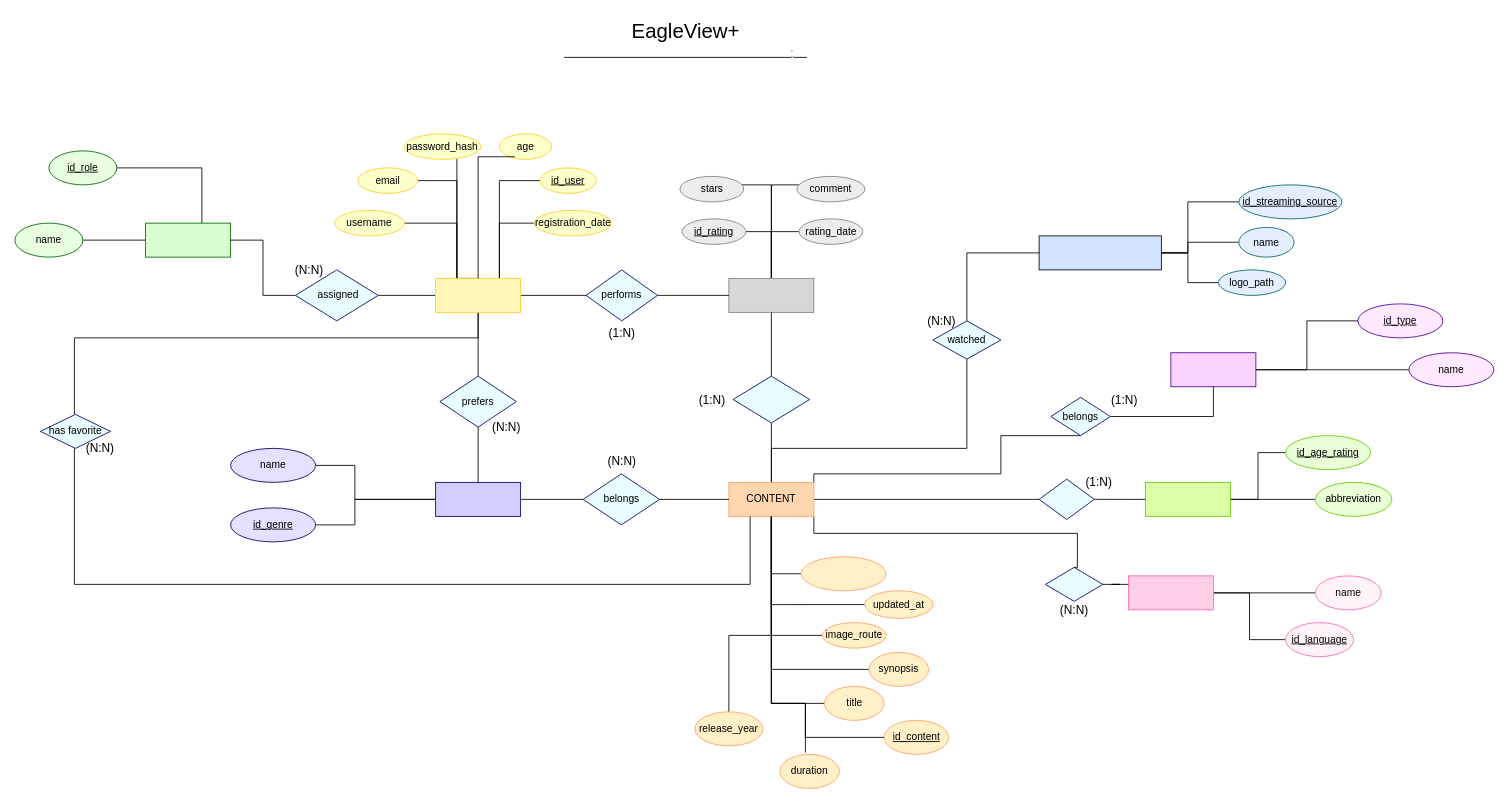
This 1509x803 diagram has some shape labels left out. The centre of each missing label's shape, as x and y in pixels:
AGE_RATING: the point at 1187,499
califiction_general: the point at 843,573
GENRE: the point at 478,499
have: the point at 1066,499
LANGUAGE: the point at 1170,592
RATING: the point at 771,295
receive: the point at 771,399
ROLE: the point at 188,239
STREAMING_SOURCE: the point at 1099,252
TYPE: the point at 1213,369
used: the point at 1074,584
USER: the point at 478,295
